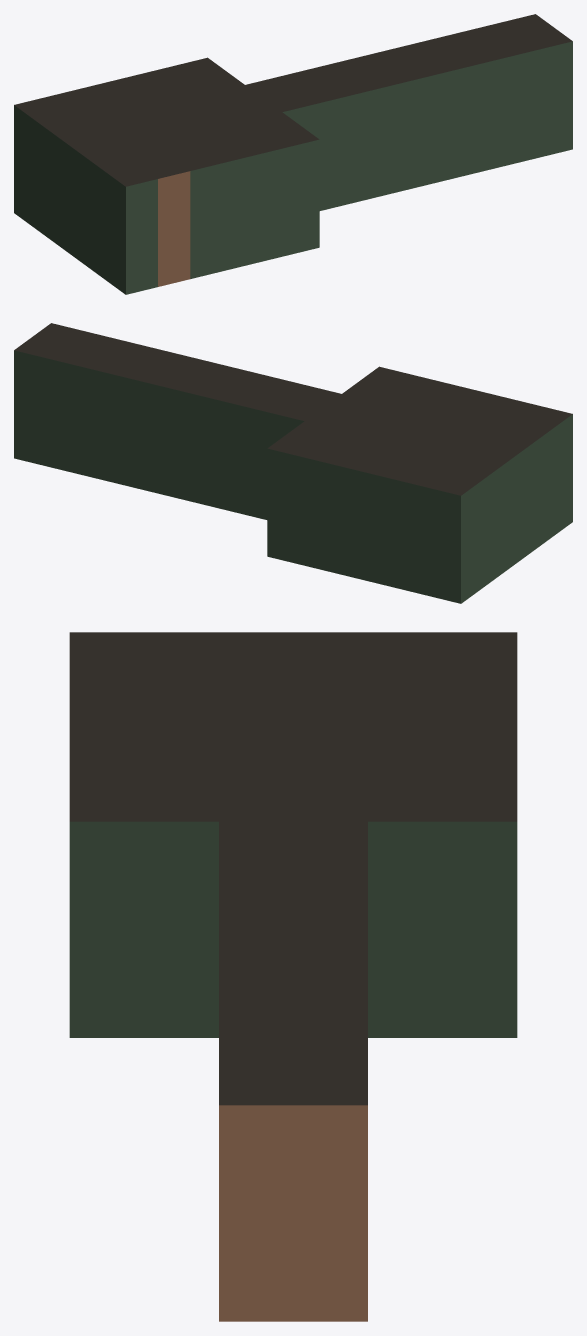
Rendered from room.glb.
The picture shows the model from 3 angles, top to bottom: view 1: azimuth 30°, elevation 25°; view 2: azimuth 150°, elevation 25°; view 3: azimuth 270°, elevation 25°; orthographic projection. The views are drawn at different scales.
Parts seen in each view (by area): view 1: room; view 2: room; view 3: room.
Boxes of the visible parts, bbox=[...] form: room: bbox=[14, 14, 572, 294]; room: bbox=[14, 323, 572, 603]; room: bbox=[69, 632, 517, 1321].
Bounding box in the file's own units: 15 × 3.2 × 6.
